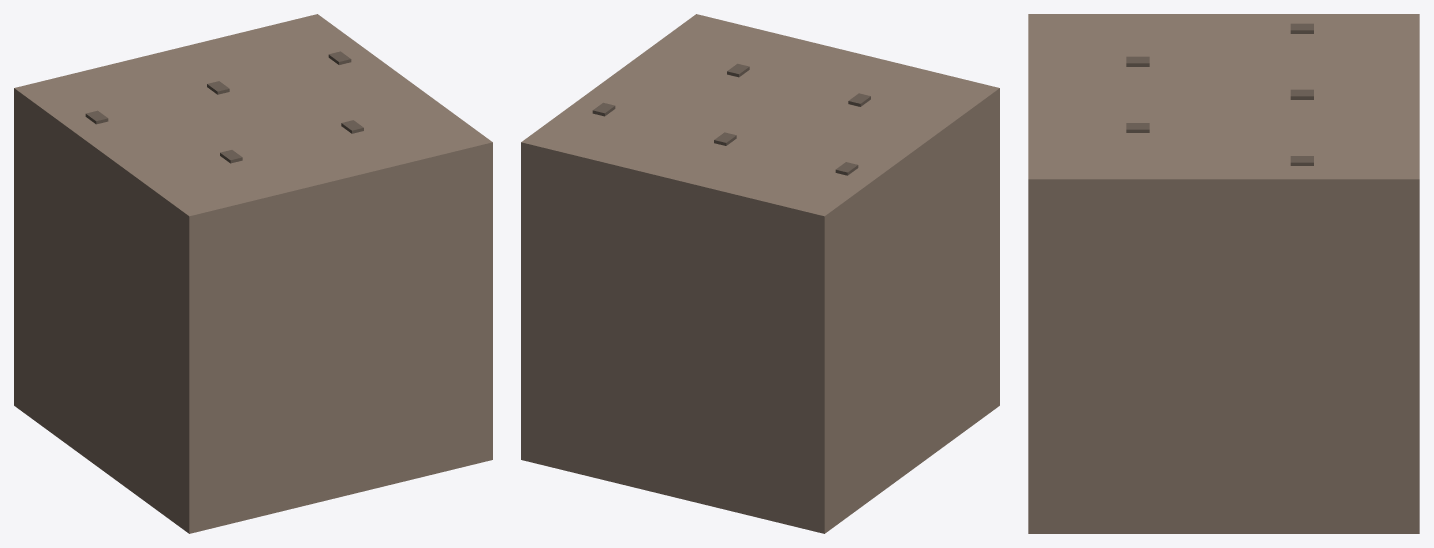
File: 16_frostpine_timber.glb
The picture shows the model from 3 angles, left to right: view 1: azimuth 30°, elevation 25°; view 2: azimuth 150°, elevation 25°; view 3: azimuth 270°, elevation 25°; orthographic projection. The views are drawn at different scales.
Parts seen in each view (by area): view 1: Core; view 2: Core; view 3: Core.
Part boxes in pixels (x1=…): Core: x1=14, y1=14, x2=492, y2=533; Core: x1=521, y1=14, x2=999, y2=533; Core: x1=1028, y1=14, x2=1419, y2=533.
Bounding box in the file's own units: 1 × 1.02 × 1.
